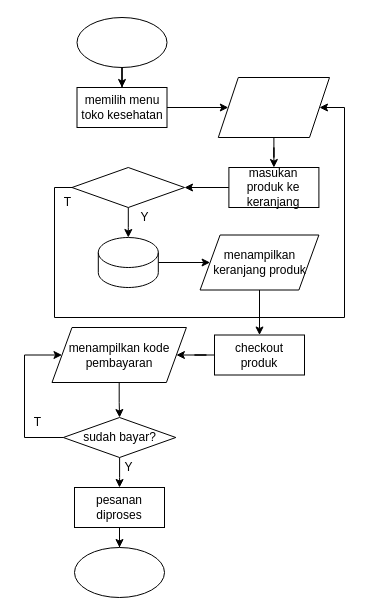
This 370x615 diagram has some shape labels left out. The shapes that lost their labels are listed below. From the top down, each one's centre as x and y in pixels, then its label:
At point (121, 42): "Mulai".
At point (273, 107): "menampilkan produk".
At point (127, 187): "sudah login?".
At point (119, 572): "Selesai".
